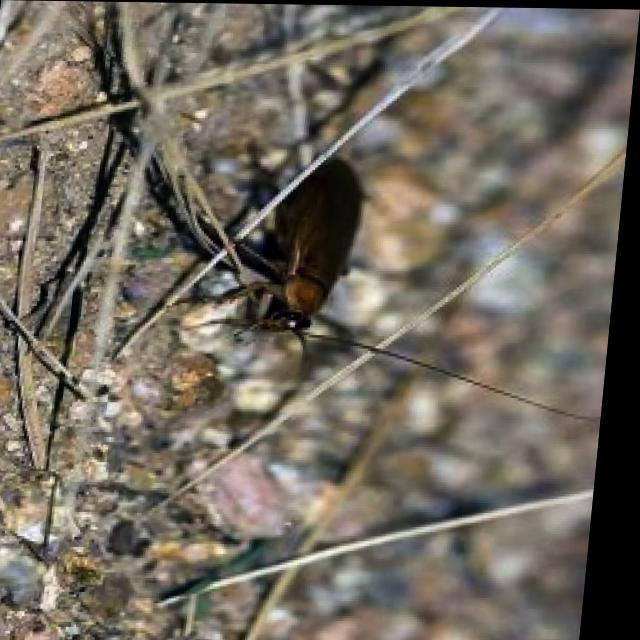cockroach: (255, 153, 368, 325)
